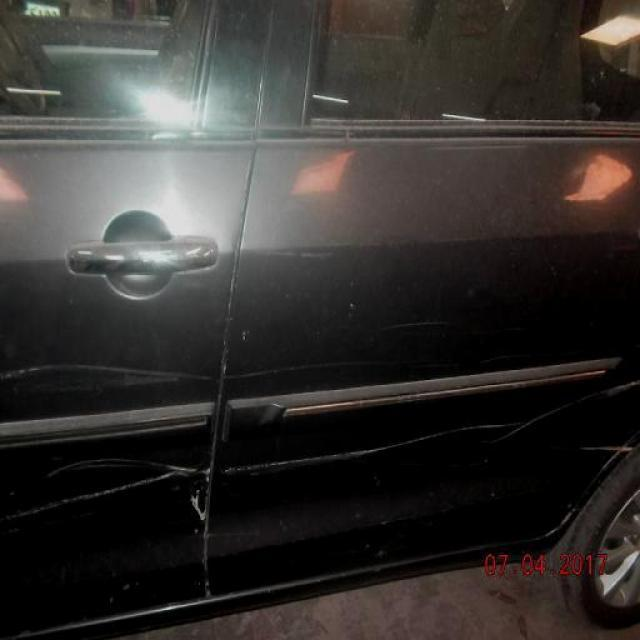car damage: (7, 367, 638, 530), (4, 343, 595, 392), (517, 436, 635, 459), (540, 496, 585, 546)
